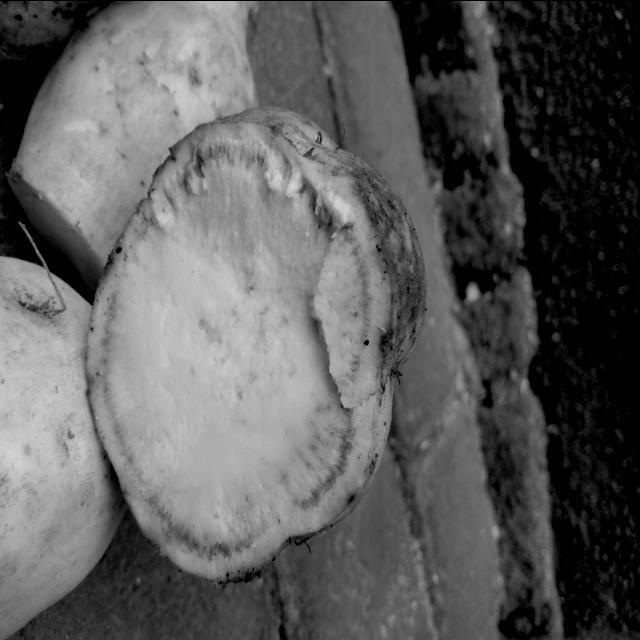Healthy Sweet Potato: (88, 107, 392, 582)
